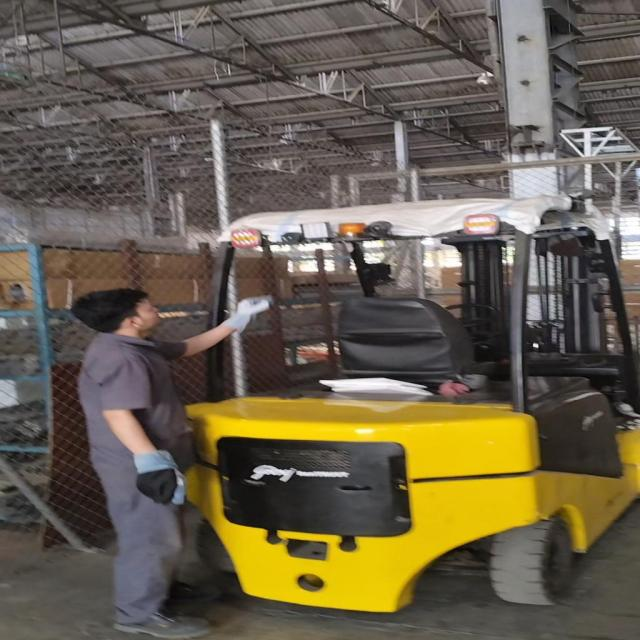Gloves-Detection: (133, 441, 184, 514), (224, 290, 274, 336)
